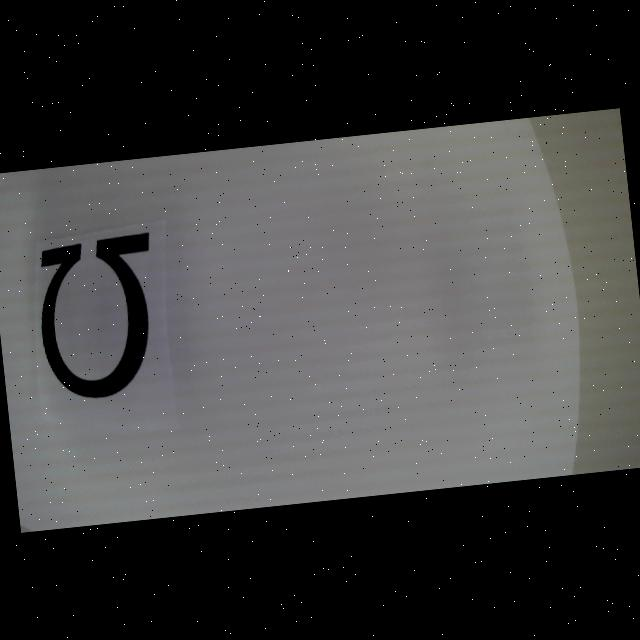OMEGA: (32, 232, 165, 402)
